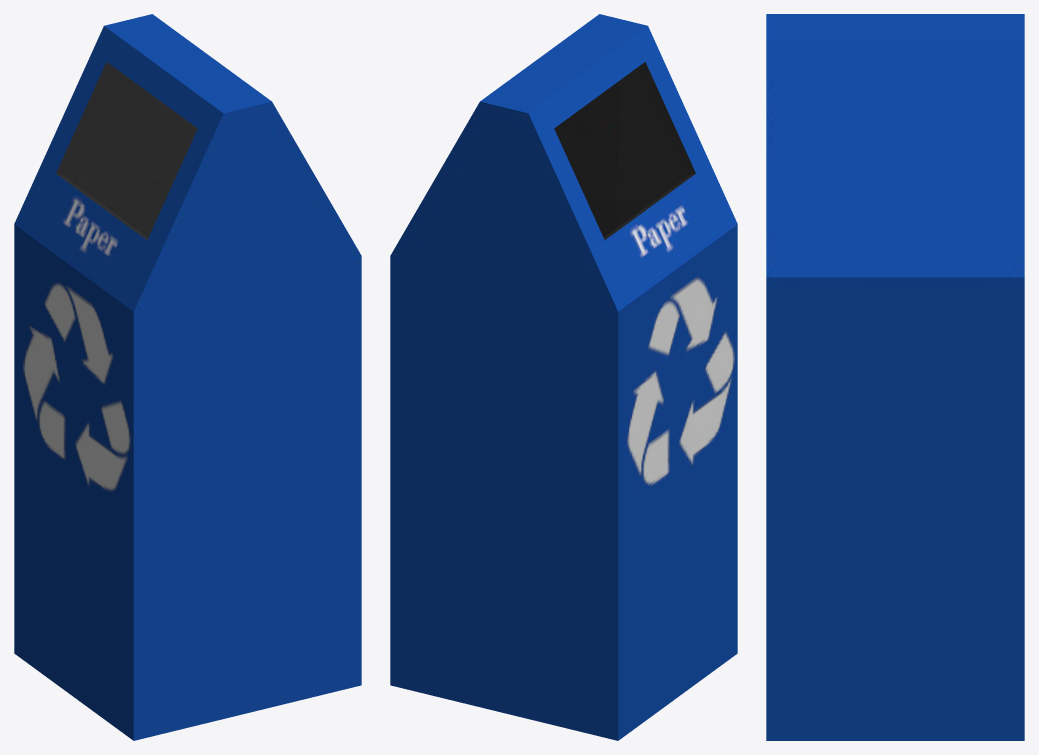
Rendered from Trash_bin_paper.gltf.
3 renders of one model, left to right at view 1: azimuth 30°, elevation 25°; view 2: azimuth 150°, elevation 25°; view 3: azimuth 270°, elevation 25°, orthographic. The views are drawn at different scales.
Parts seen in each view (by area): view 1: Trash_bin; view 2: Trash_bin; view 3: Trash_bin.
Boxes of the visible parts, box(x1,y1,x2,y2) form: Trash_bin: box(14, 14, 361, 740); Trash_bin: box(390, 14, 737, 740); Trash_bin: box(766, 14, 1024, 740).
Size of the model in its own units: 10.78 by 27.35 by 9.79.
1 material, 1 textured.
